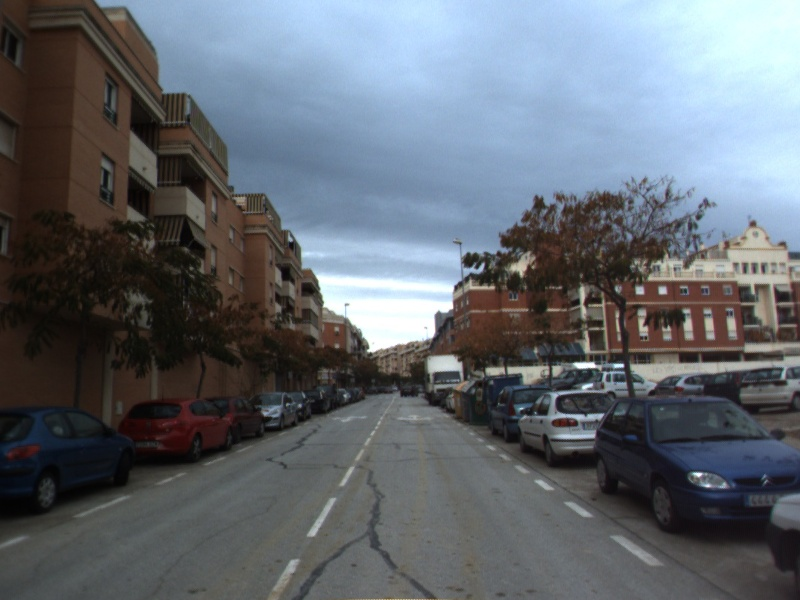STRAIGHT_LEFT_RIGHT: (394, 412, 437, 423)
